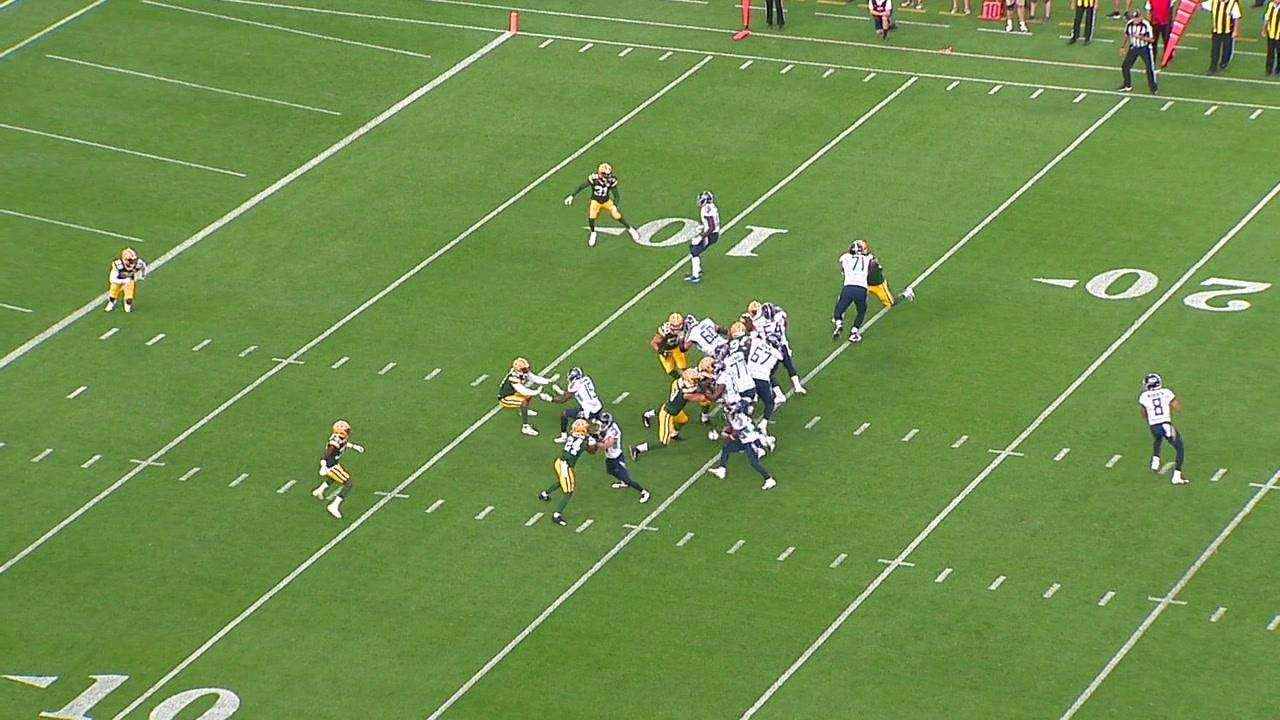five_hash: (986, 446, 1026, 459), (1147, 594, 1187, 607), (127, 456, 166, 468), (878, 556, 916, 568), (622, 521, 657, 533), (373, 489, 410, 500), (272, 355, 305, 367), (1249, 481, 1280, 492)
hash: (720, 531, 746, 558), (770, 541, 799, 565), (1041, 578, 1066, 605), (674, 526, 698, 554), (1205, 601, 1231, 625), (985, 570, 1009, 595), (828, 547, 851, 573), (227, 468, 251, 492), (421, 494, 446, 516), (30, 444, 55, 466), (77, 449, 100, 471), (189, 334, 213, 355), (178, 464, 203, 484), (274, 476, 296, 498), (932, 565, 955, 586), (523, 508, 546, 529), (899, 425, 922, 445), (97, 324, 121, 343), (1097, 587, 1118, 608), (1051, 444, 1073, 464), (377, 357, 397, 379), (422, 364, 445, 383), (144, 330, 167, 349), (574, 515, 595, 535), (852, 418, 872, 439), (1101, 451, 1123, 470), (1210, 464, 1230, 484), (475, 502, 495, 522), (331, 353, 353, 371), (237, 341, 259, 359), (951, 432, 971, 451), (471, 370, 491, 389), (611, 388, 632, 406), (801, 413, 823, 430), (1158, 460, 1176, 478), (1265, 612, 1280, 633)
number: (1082, 264, 1276, 320), (629, 208, 795, 263)
player: (506, 10, 520, 37)
